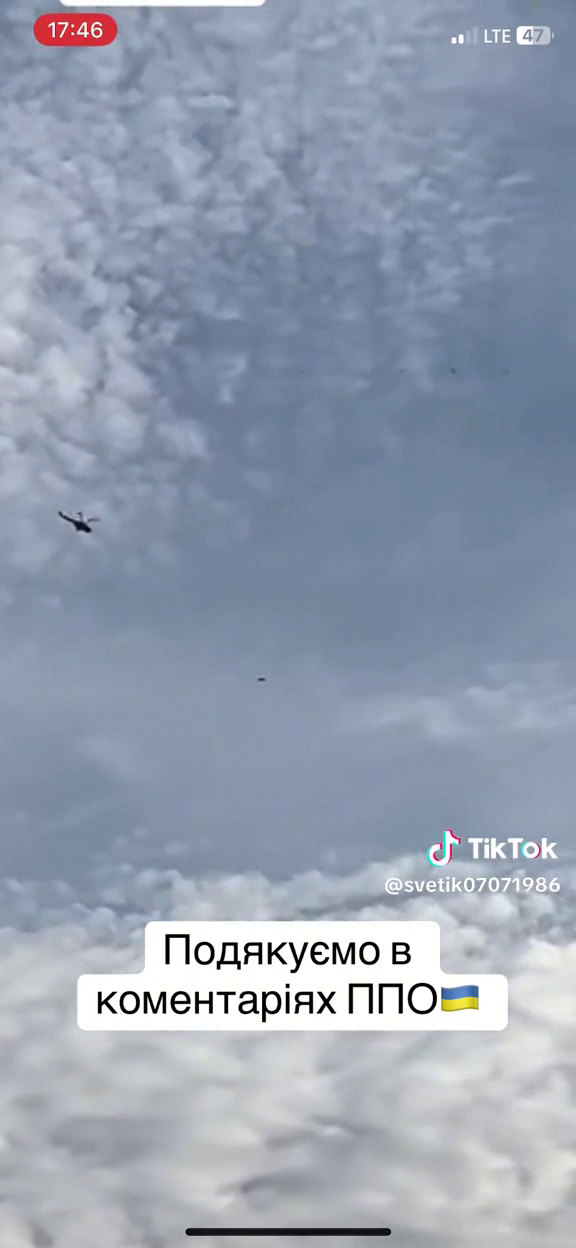not_drone: (58, 511, 98, 533)
shahed: (257, 676, 265, 682)
